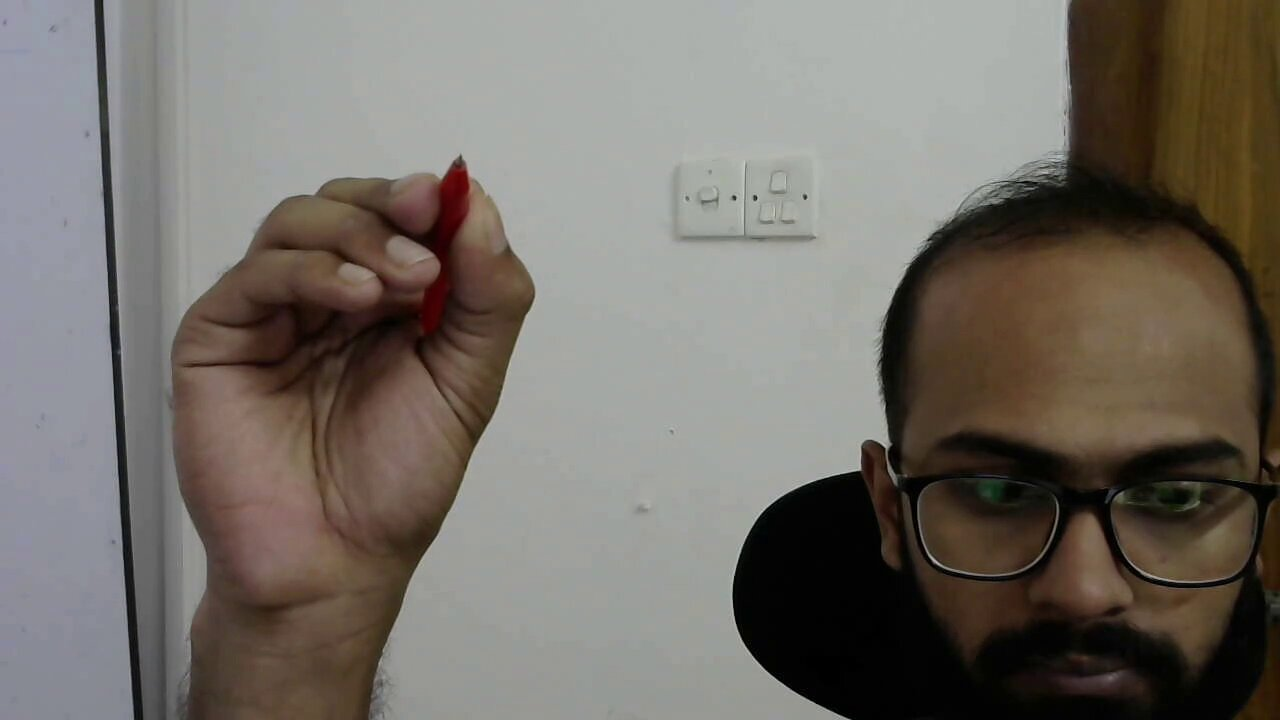pointer: (164, 162, 537, 540)
